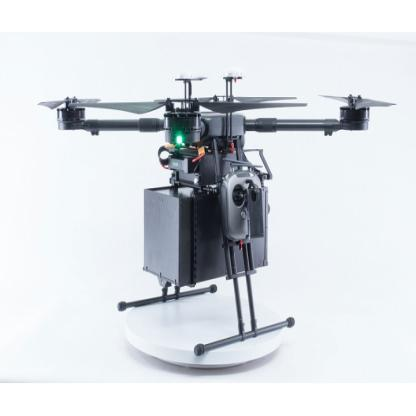drone: (32, 65, 396, 199)
